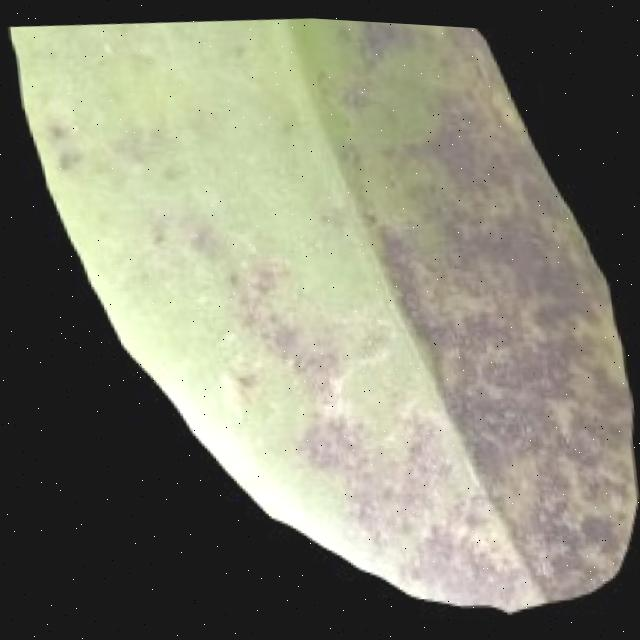mite: (325, 15, 455, 152), (356, 17, 422, 61), (42, 114, 87, 171), (340, 76, 374, 108), (159, 153, 190, 180), (56, 142, 84, 171), (231, 363, 262, 388), (45, 117, 71, 141)
spots: (5, 14, 640, 623)
